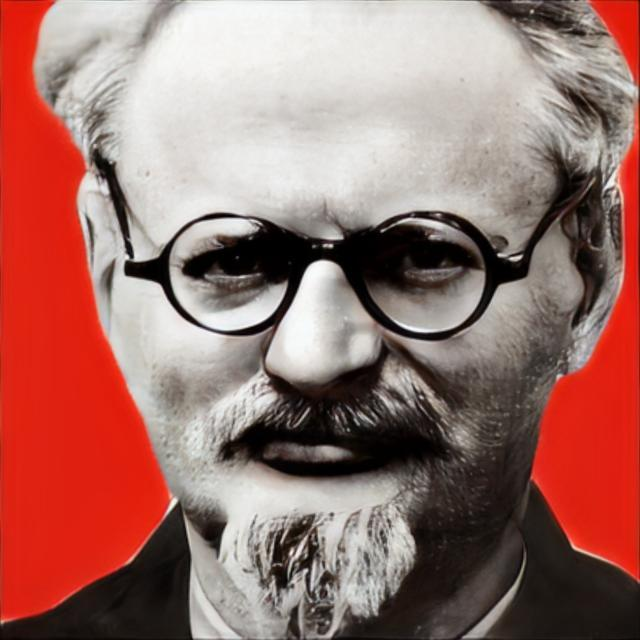anger: (119, 85, 560, 594)
